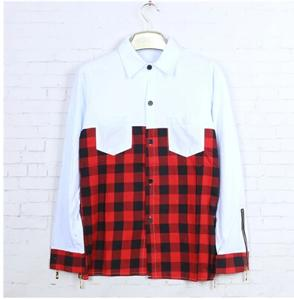C_long sleeve: (44, 28, 264, 290)
